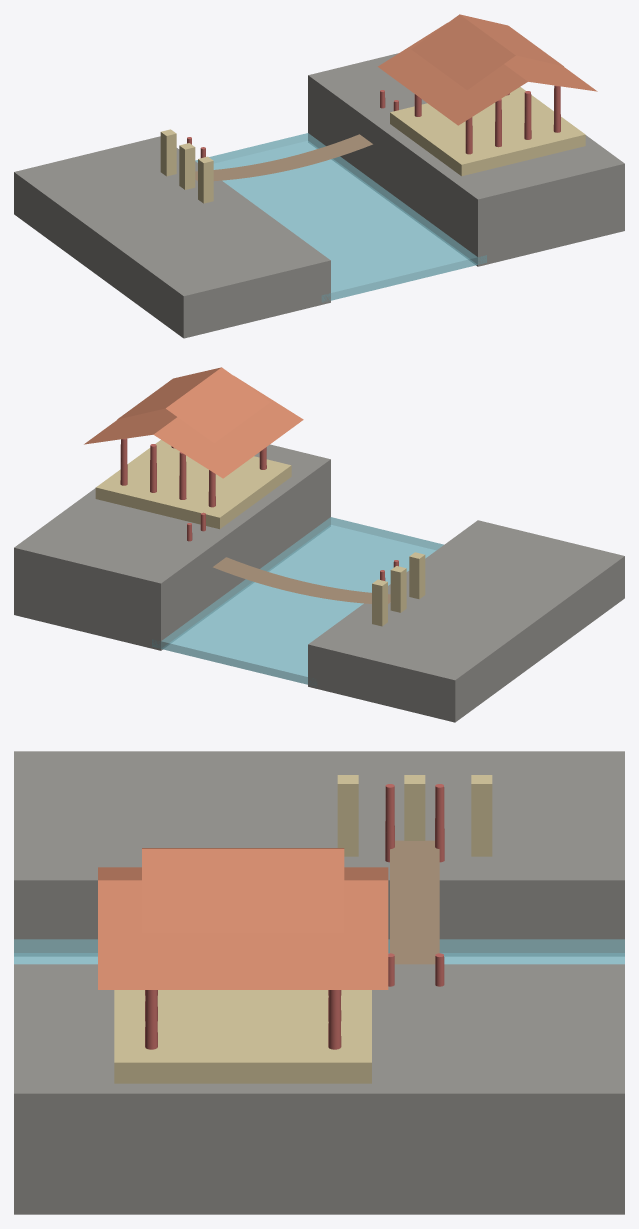
The model's file is lm_68_thac_prenn_den_au_lac_bridge.glb.
3 views of the same model, one above another, from view 1: azimuth 30°, elevation 25°; view 2: azimuth 150°, elevation 25°; view 3: azimuth 270°, elevation 25° (orthographic). The views are drawn at different scales.
Visible parts, largest first — view 1: lm_68_thac_prenn_den_au_lac_bridge; view 2: lm_68_thac_prenn_den_au_lac_bridge; view 3: lm_68_thac_prenn_den_au_lac_bridge.
Part boxes in pixels (<box>): lm_68_thac_prenn_den_au_lac_bridge: <box>14,14,624,338</box>; lm_68_thac_prenn_den_au_lac_bridge: <box>14,367,624,722</box>; lm_68_thac_prenn_den_au_lac_bridge: <box>14,751,624,1214</box>.
Bounding box in the file's own units: 48 × 17.4 × 32.
